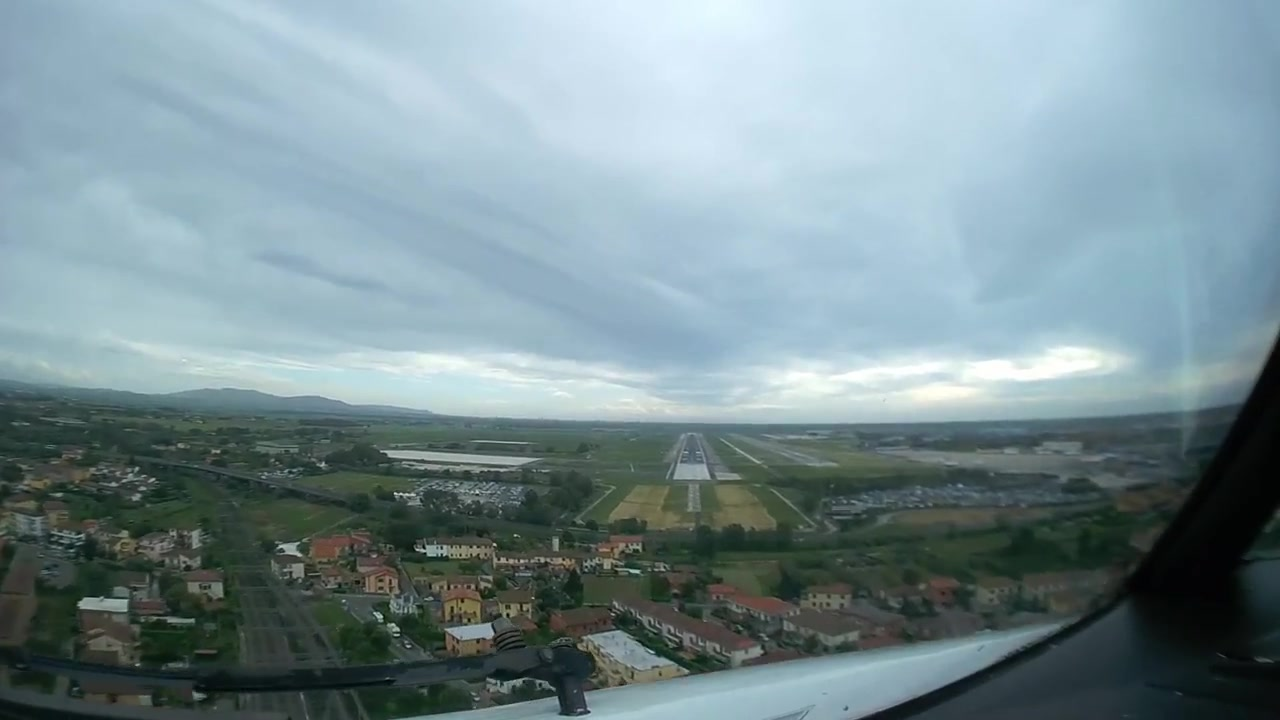runway: (673, 431, 710, 466)
